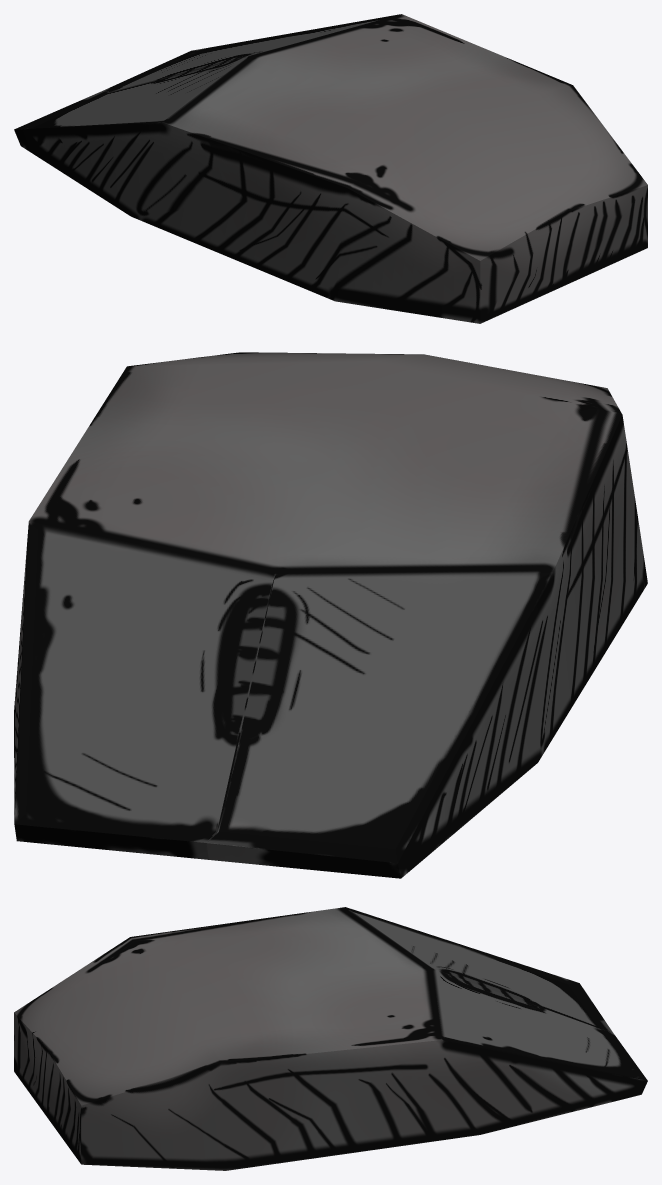
The model's file is mshMouse.fbx.
3 renders of one model, top to bottom at view 1: azimuth 30°, elevation 25°; view 2: azimuth 150°, elevation 25°; view 3: azimuth 270°, elevation 25°, orthographic. The views are drawn at different scales.
Parts seen in each view (by area): view 1: MOUSE; view 2: MOUSE; view 3: MOUSE.
Part boxes in pixels (x1,y1,x2,y2): MOUSE: [14, 14, 647, 323]; MOUSE: [14, 352, 647, 878]; MOUSE: [14, 907, 647, 1170].
Bounding box in the file's own units: 116 × 37.02 × 178.
